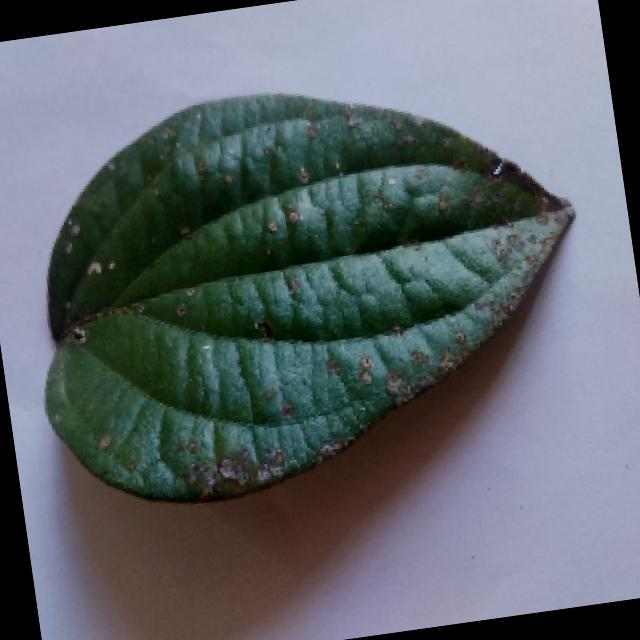pollu-disease: (10, 48, 609, 530)
